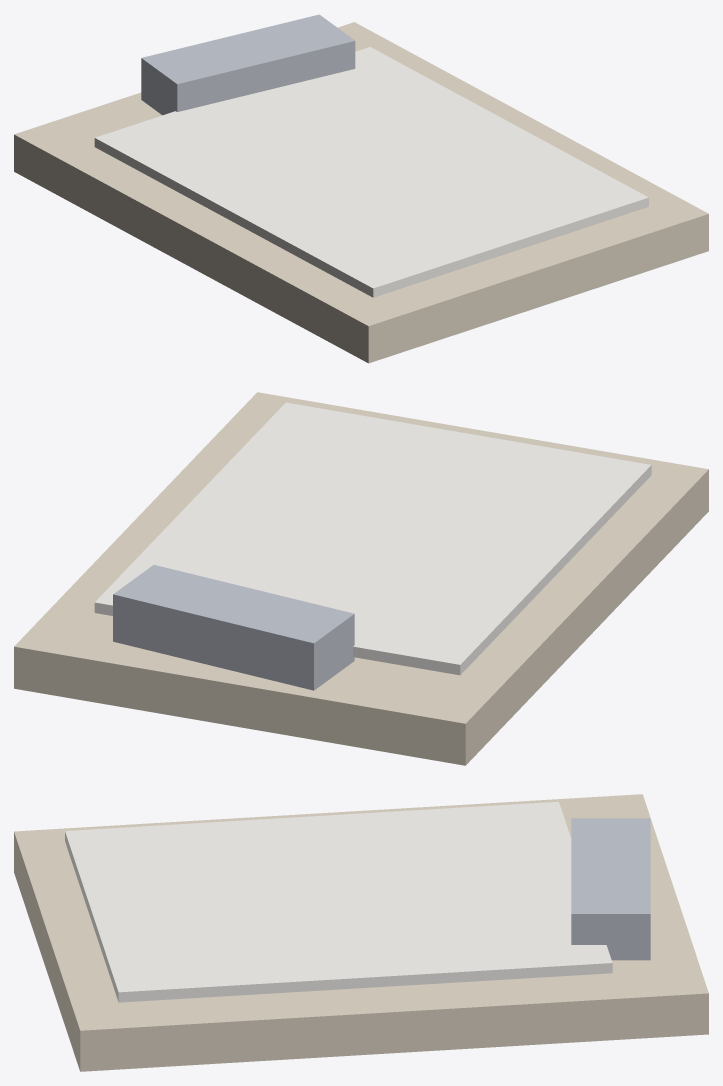
File: station_processing_1.glb
The picture shows the model from 3 angles, top to bottom: view 1: azimuth 30°, elevation 25°; view 2: azimuth 150°, elevation 25°; view 3: azimuth 270°, elevation 25°; orthographic projection. The views are drawn at different scales.
Visible parts, largest first — view 1: blatt, brett, klemme; view 2: blatt, brett, klemme; view 3: blatt, brett, klemme.
Boxes of the visible parts, <box> form: blatt: <box>94,47,648,297</box>; brett: <box>14,22,708,363</box>; klemme: <box>141,14,355,115</box>; blatt: <box>94,402,651,675</box>; brett: <box>14,392,708,765</box>; klemme: <box>113,565,354,690</box>; blatt: <box>65,801,612,1002</box>; brett: <box>14,794,708,1071</box>; klemme: <box>571,818,650,960</box>.
Bounding box in the file's own units: 0.4938 × 0.085 × 0.613.
